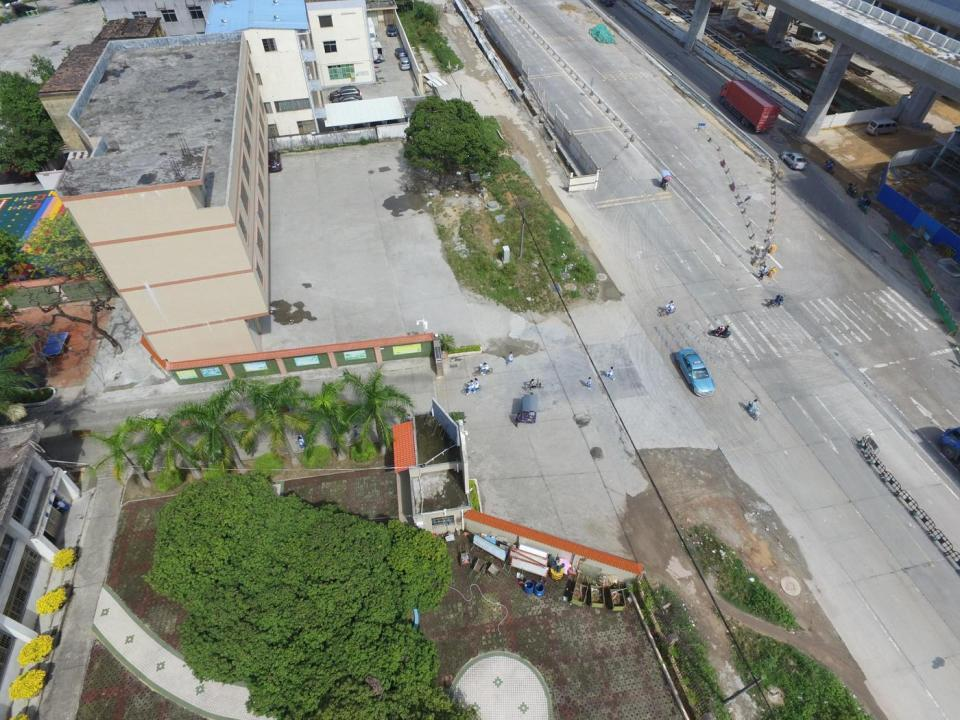car: (675, 348, 714, 397), (784, 150, 806, 171), (330, 85, 361, 98), (330, 95, 361, 107), (268, 150, 282, 172), (385, 24, 398, 37), (398, 57, 410, 71), (395, 46, 405, 60)
truck: (718, 81, 782, 134), (795, 21, 827, 45), (369, 40, 383, 64), (365, 16, 375, 42)
van: (865, 117, 899, 134)
